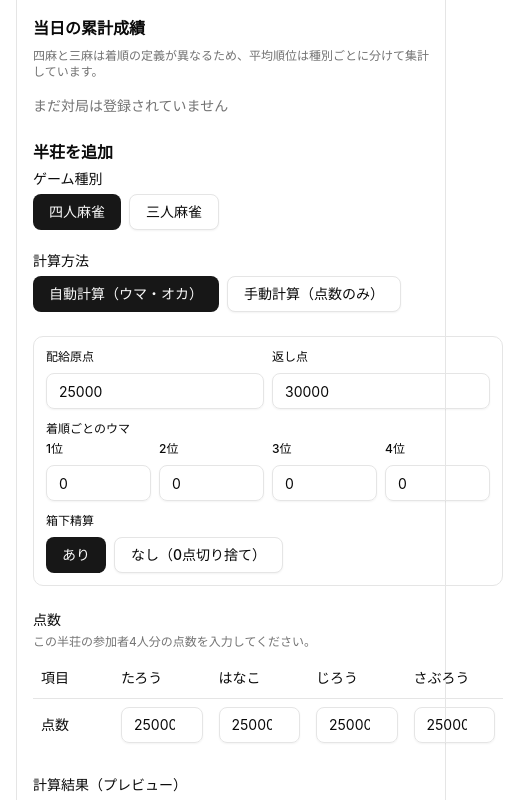
Scenario: HanchanEntryForm（新規半荘登録） › 手動計算から自動計算に切り替えると、参加中の点数欄に配給原点が入る
// MANUALに切り替えても既存の点数はクリアされない（クリアはAUTO移行時のみの挙動）
Click the button "手動計算（点数のみ）" at x=314, y=294, box [227, 276, 401, 312]
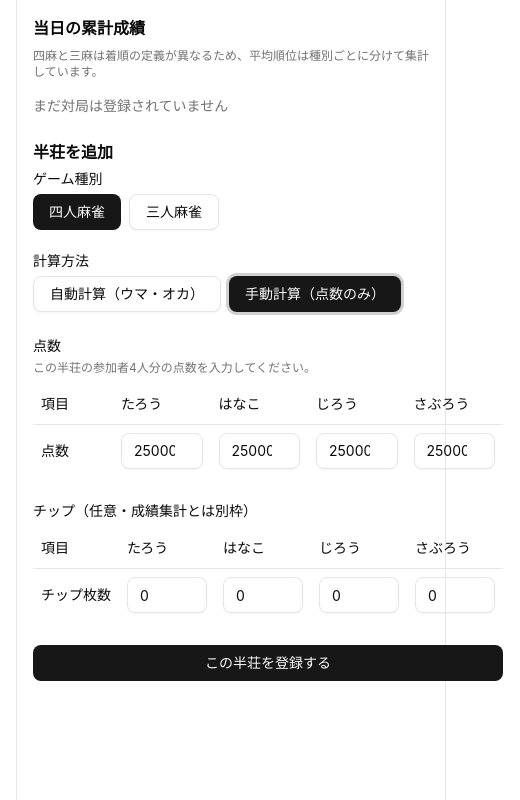
Clear the 1st number field named "rows.0.score" at x=162, y=450, box [121, 432, 202, 468]
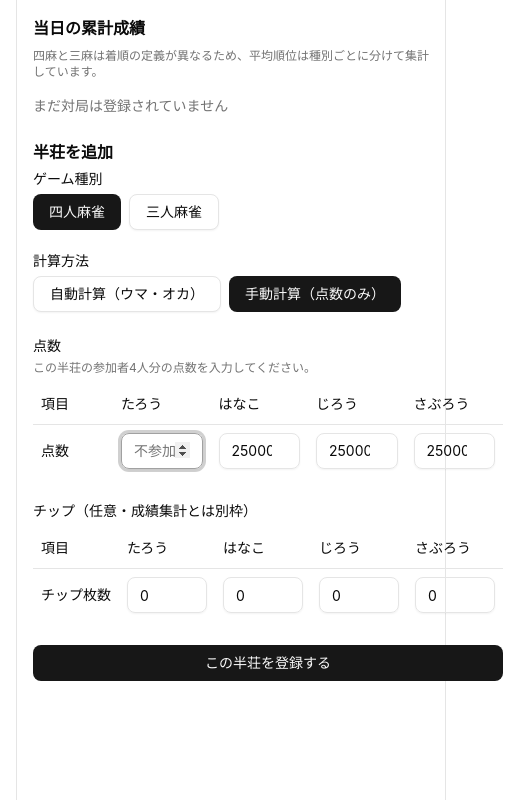
Click the button "自動計算（ウマ・オカ）" at x=127, y=294, box [33, 276, 221, 312]
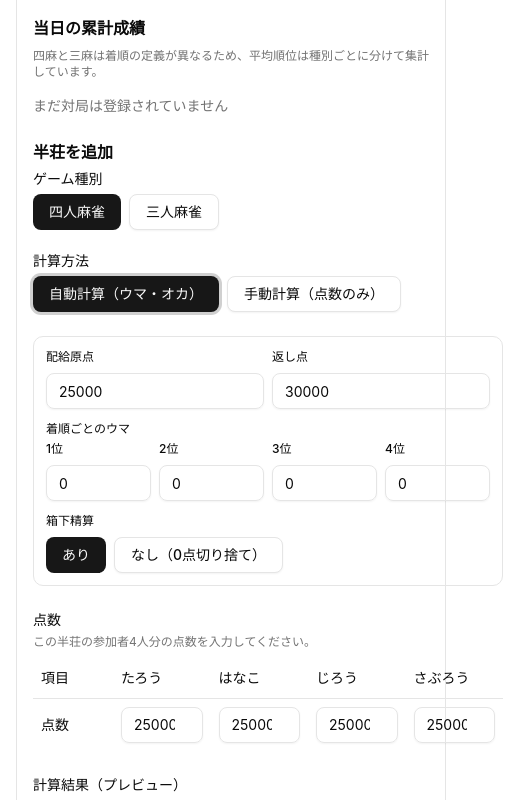
Expected: the 1st number field named "rows.0.score" holds "25000", [121, 706, 202, 742]
